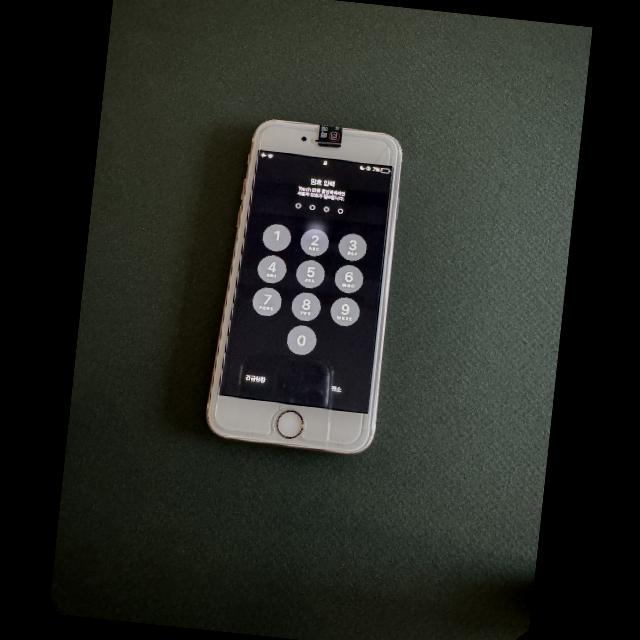phone: (206, 119, 401, 454)
sticker: (317, 124, 342, 147)
